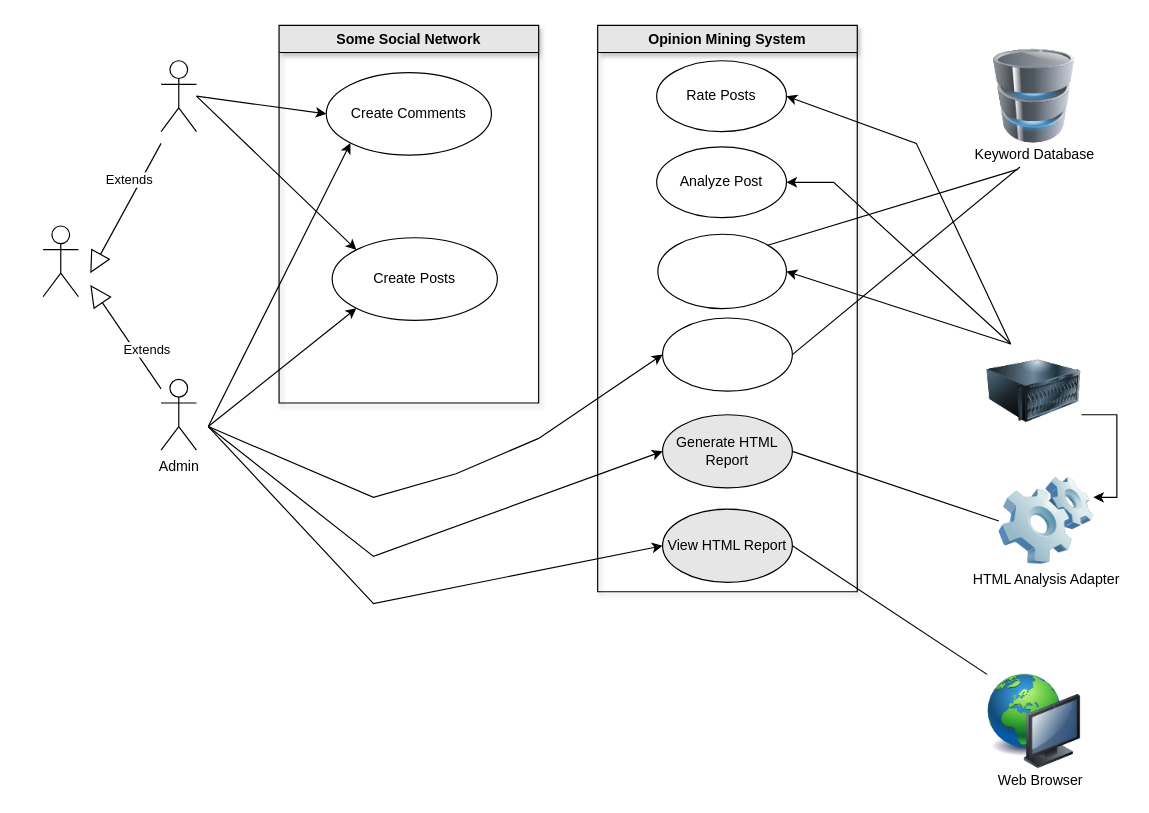
Image size: 1149x813. Some labels were removed from this diagram. The centre of each missing label's shape, as x and y in pixels:
AbstractUser: the point at 60,261
Add Keyword: the point at 726,354
Analysis System: the point at 1033,390
Get Keyword: the point at 721,271
User: the point at 178,96
